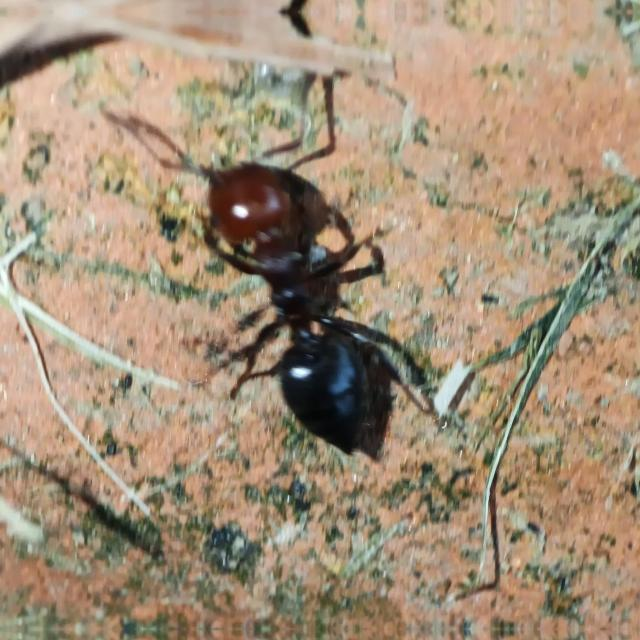Crematogaster: (185, 156, 405, 432)
